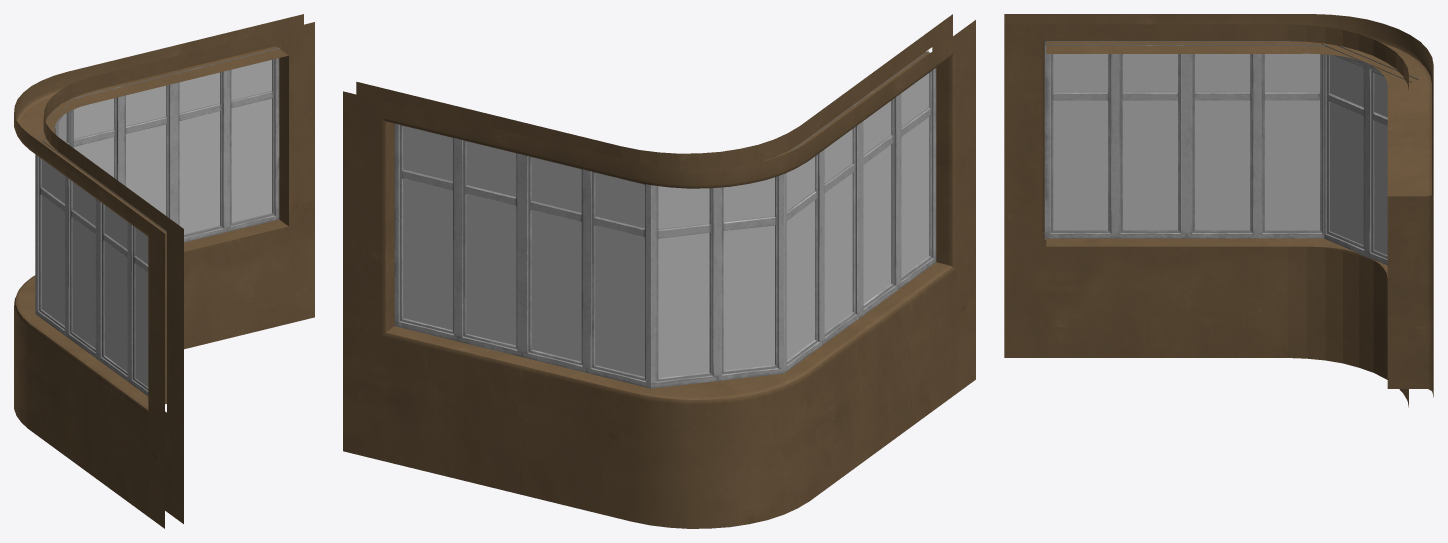
Rendered from SM_Building04_WallCornerR.fbx.
3 views of the same model, side by side, from view 1: azimuth 30°, elevation 25°; view 2: azimuth 150°, elevation 25°; view 3: azimuth 270°, elevation 25° (orthographic). The views are drawn at different scales.
Parts seen in each view (by area): view 1: SM_Building04_WallCornerR_LOD0; view 2: SM_Building04_WallCornerR_LOD0; view 3: SM_Building04_WallCornerR_LOD0.
Boxes of the visible parts, box(x1,y1,x2,y2) form: SM_Building04_WallCornerR_LOD0: box(14, 14, 314, 528); SM_Building04_WallCornerR_LOD0: box(343, 14, 975, 528); SM_Building04_WallCornerR_LOD0: box(1004, 14, 1433, 407).
Bounding box in the file's own units: 350 × 350 × 300.
Materials: 3 (2 with a texture image).
